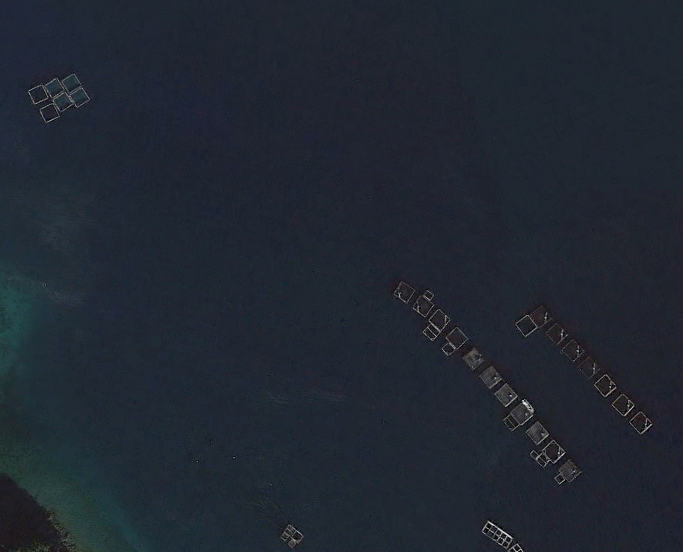square: (489, 376, 519, 410), (523, 414, 551, 446), (21, 79, 51, 106), (555, 451, 581, 482), (67, 82, 93, 112), (509, 396, 535, 426), (544, 317, 570, 347), (543, 435, 567, 465), (58, 68, 82, 96), (592, 371, 616, 399), (390, 279, 414, 305), (446, 326, 470, 352), (477, 363, 500, 390), (426, 308, 450, 333), (529, 300, 551, 326), (579, 352, 600, 379), (51, 88, 73, 113), (560, 335, 582, 360), (409, 293, 430, 319), (464, 350, 490, 371), (43, 75, 64, 100), (614, 392, 634, 418), (38, 100, 58, 125), (631, 410, 652, 433), (516, 314, 537, 335)
